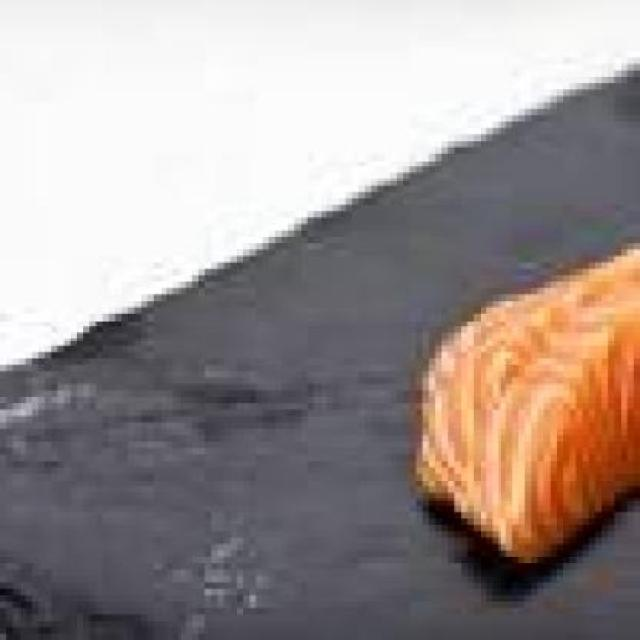salmon: (383, 217, 640, 555)
